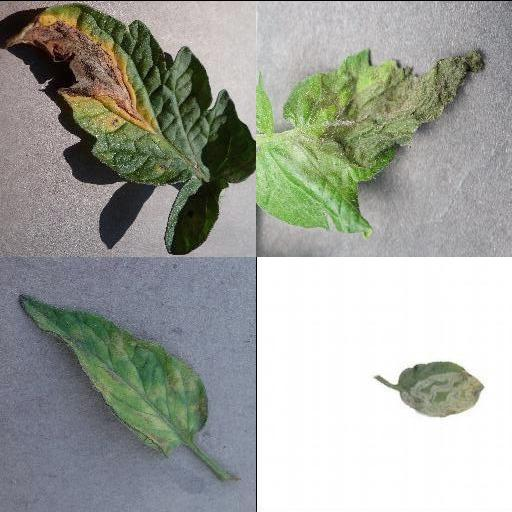Early Blight: (6, 0, 256, 256)
Late Blight: (256, 44, 486, 236)
Leaf Miner: (396, 362, 484, 419)
Leaf Mold: (17, 293, 209, 459)
